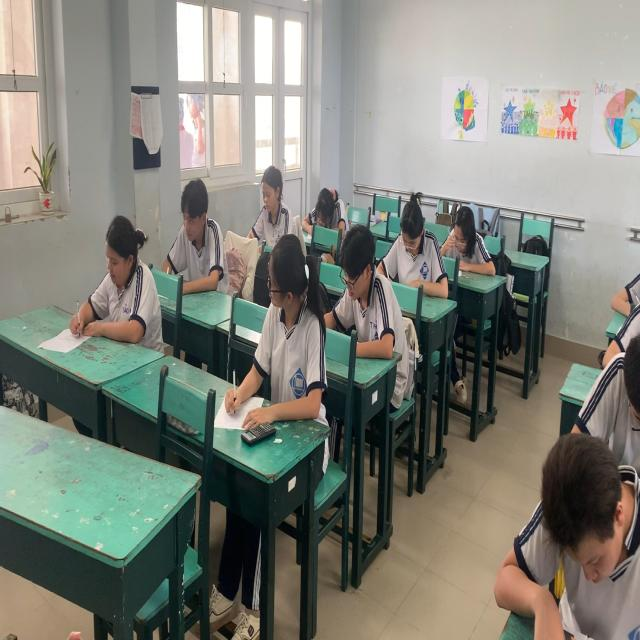cheating: (243, 235, 324, 421)
not_cheating: (528, 432, 636, 637), (82, 210, 161, 350), (337, 218, 394, 358), (165, 174, 224, 303), (390, 192, 436, 293), (255, 156, 292, 252), (448, 194, 484, 278), (308, 173, 342, 250)
